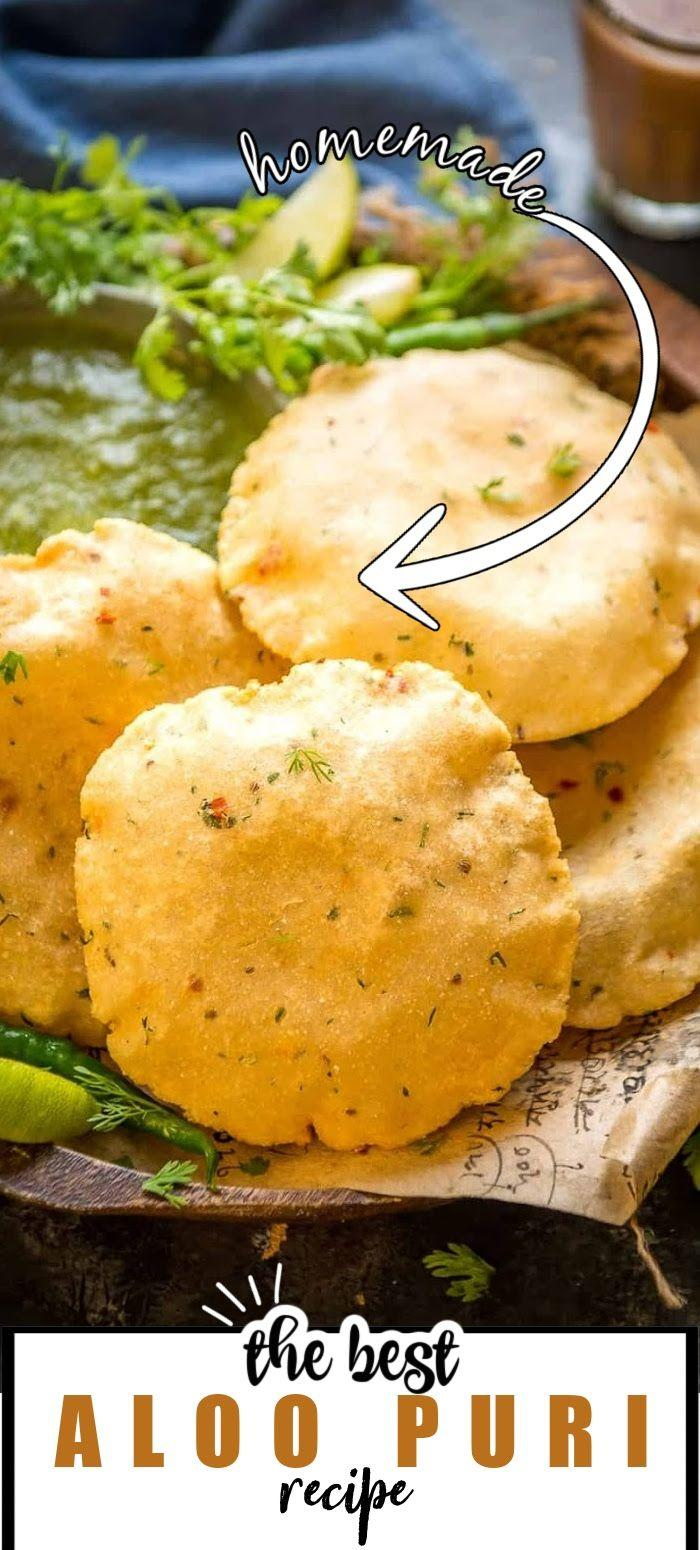puri: (0, 545, 690, 1150)
